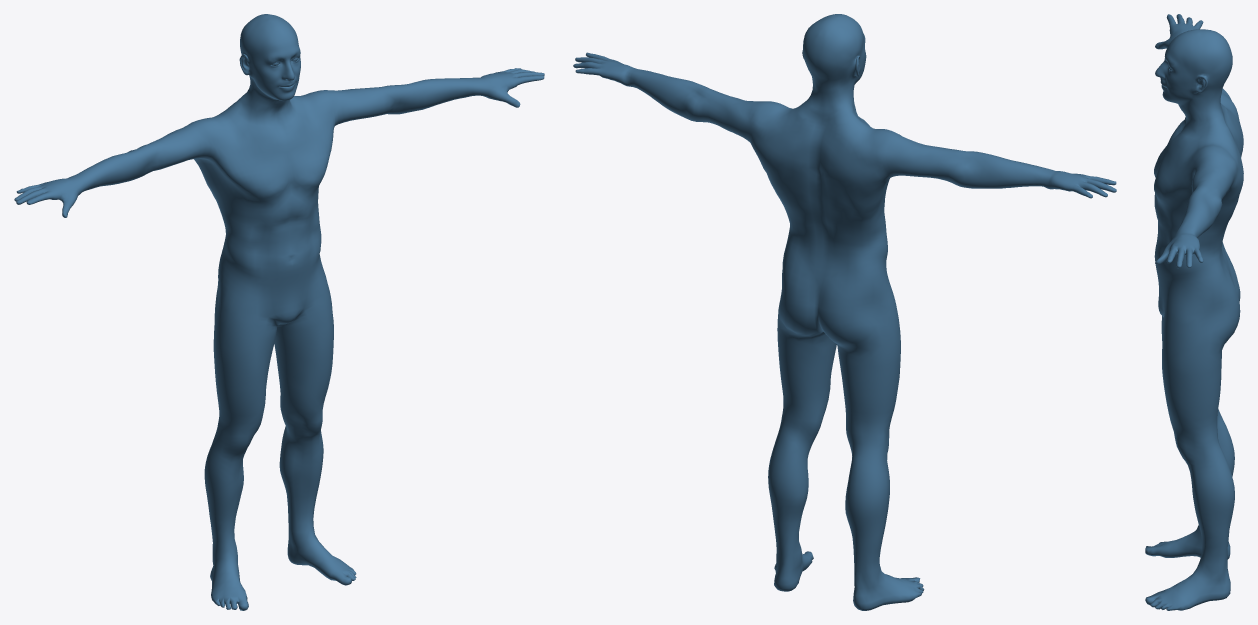
The model's file is man_powerpointMetall.glb.
3 renders of one model, left to right at view 1: azimuth 30°, elevation 25°; view 2: azimuth 150°, elevation 25°; view 3: azimuth 270°, elevation 25°, orthographic. The views are drawn at different scales.
Visible parts, largest first — view 1: mesh; view 2: mesh; view 3: mesh.
Boxes of the visible parts, x1,y1,x2,y2 form: mesh: (14, 14, 544, 610); mesh: (573, 14, 1116, 610); mesh: (1145, 14, 1243, 610).
Size of the model in its own units: 1.75 by 1.78 by 0.29.
